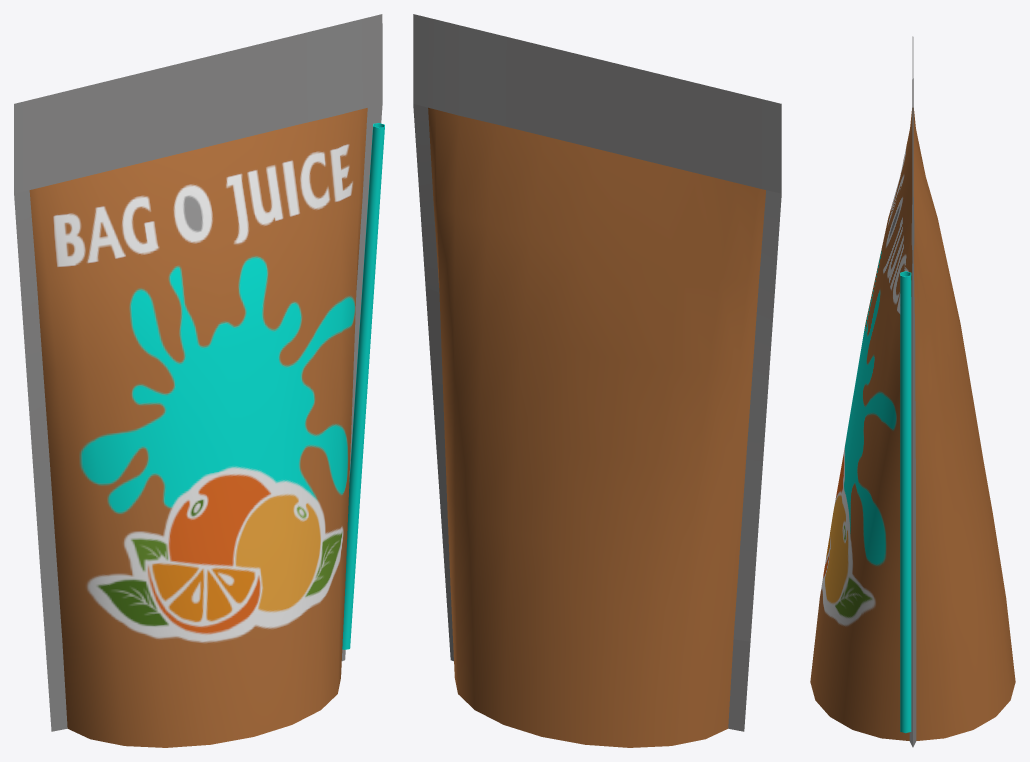
Rendered from Juice Bag.fbx.
3 renders of one model, left to right at view 1: azimuth 30°, elevation 25°; view 2: azimuth 150°, elevation 25°; view 3: azimuth 270°, elevation 25°, orthographic. The views are drawn at different scales.
Visible parts, largest first — view 1: Juice_Bag1; view 2: Juice_Bag1; view 3: Juice_Bag1.
Part boxes in pixels (box(x1,y1,x2,y2)): Juice_Bag1: box(14, 14, 384, 747); Juice_Bag1: box(413, 14, 781, 747); Juice_Bag1: box(810, 36, 1015, 747).
Bounding box in the file's own units: 0.9992 × 1.65 × 0.5244.
1 material, 1 textured.
